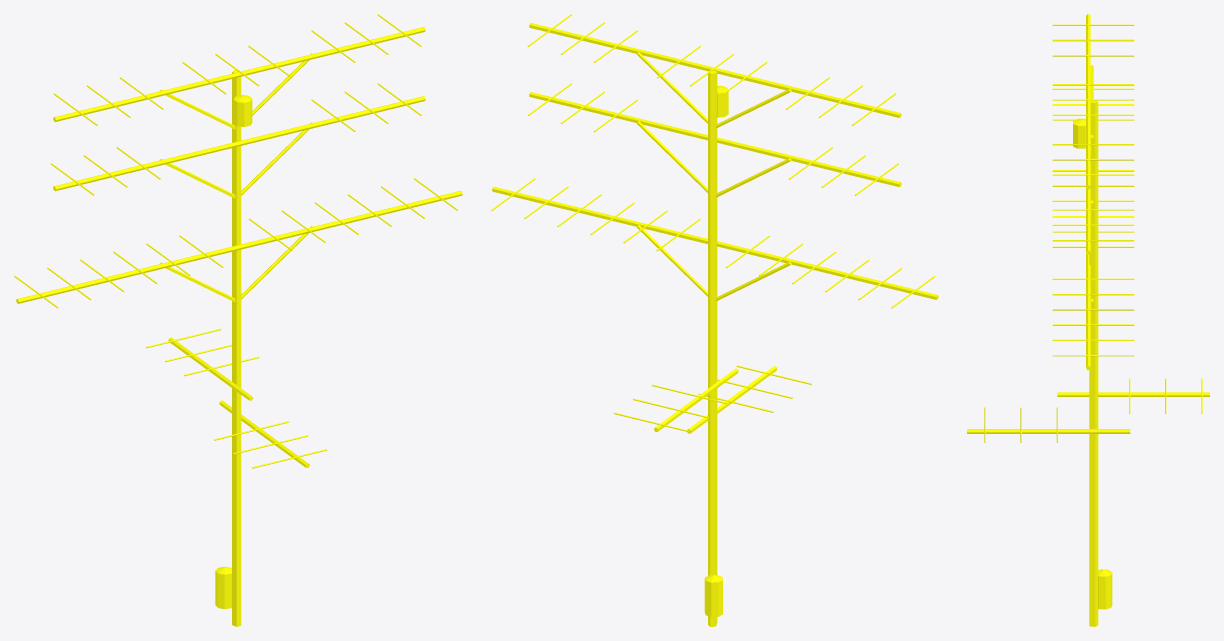
The model's file is SM_Antenna01.glb.
3 renders of one model, left to right at view 1: azimuth 30°, elevation 25°; view 2: azimuth 150°, elevation 25°; view 3: azimuth 270°, elevation 25°, orthographic. The views are drawn at different scales.
Visible parts, largest first — view 1: SM_Antenna01_LOD0; view 2: SM_Antenna01_LOD0; view 3: SM_Antenna01_LOD0.
Boxes of the visible parts, x1,y1,x2,y2 form: SM_Antenna01_LOD0: (14, 14, 462, 626); SM_Antenna01_LOD0: (491, 14, 938, 626); SM_Antenna01_LOD0: (967, 14, 1209, 626).
Size of the model in its own units: 1.34 by 1.61 by 0.672.
1 material, 1 textured.
